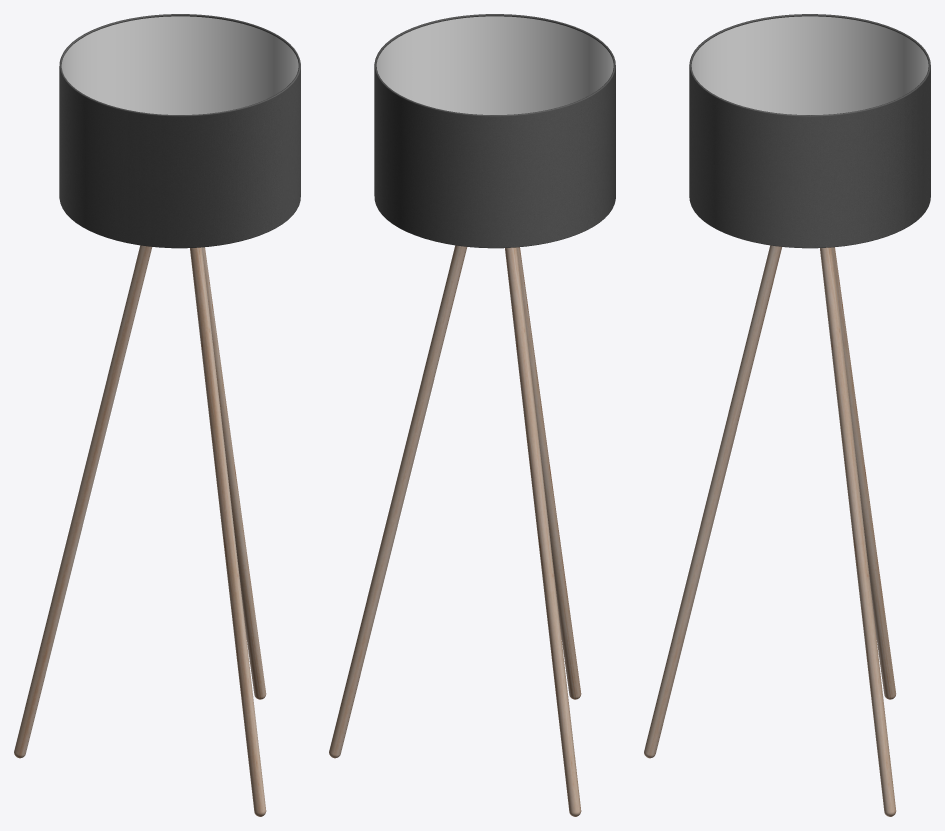
File: lamp.glb
3 views of the same model, side by side, from view 1: azimuth 30°, elevation 25°; view 2: azimuth 150°, elevation 25°; view 3: azimuth 270°, elevation 25° (orthographic).
Parts seen in each view (by area): view 1: LAMP_SHADE_GRAY, STEEL_WHITE, WOOD; view 2: LAMP_SHADE_GRAY, STEEL_WHITE, WOOD; view 3: LAMP_SHADE_GRAY, STEEL_WHITE, WOOD.
Boxes of the visible parts, x1,y1,x2,y2 form: LAMP_SHADE_GRAY: (59,14,300,248); STEEL_WHITE: (61,16,298,114); WOOD: (14,245,266,816); LAMP_SHADE_GRAY: (374,14,615,248); STEEL_WHITE: (376,16,613,114); WOOD: (329,245,581,816); LAMP_SHADE_GRAY: (689,14,930,248); STEEL_WHITE: (691,16,928,114); WOOD: (644,245,896,816).
Size of what is drawn, in the model's own units: 58.13 by 154 by 57.65.
5 materials, 3 textured.
